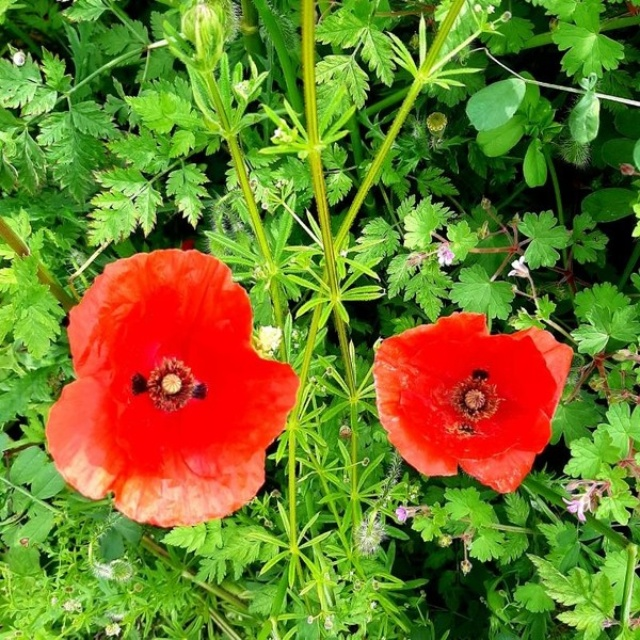obstacle: (267, 35, 598, 559), (29, 239, 386, 597)
